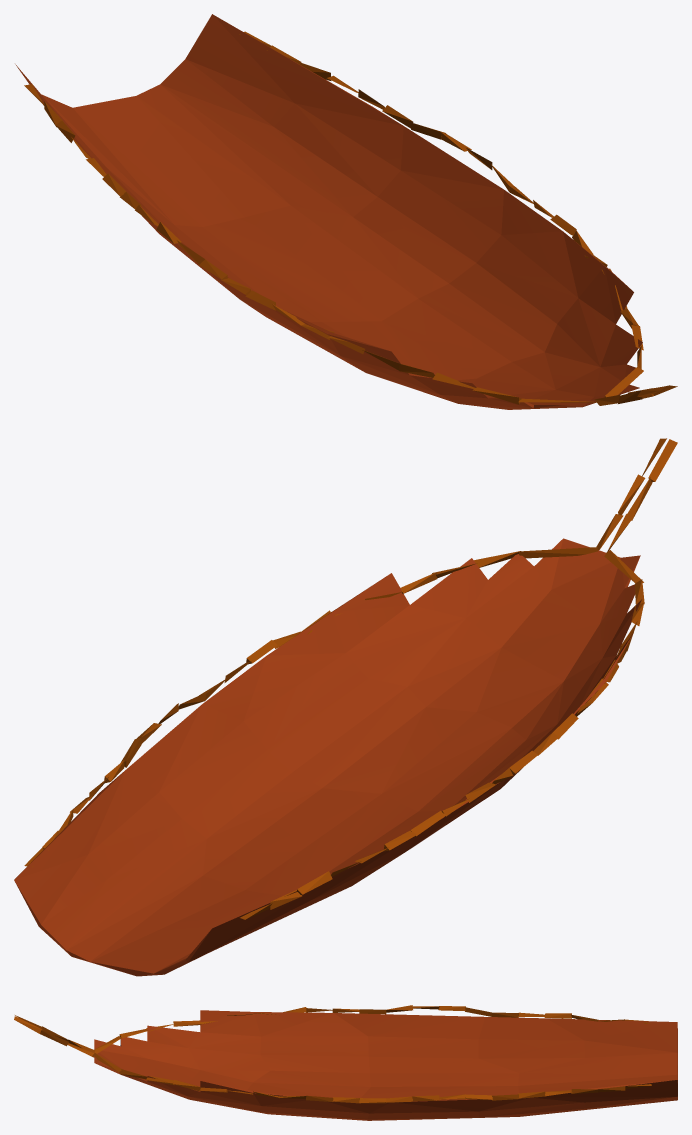
The model's file is upgrade_copper_banded_hull.three-web-toon.lod25.glb.
3 views of the same model, one above another, from view 1: azimuth 30°, elevation 25°; view 2: azimuth 150°, elevation 25°; view 3: azimuth 270°, elevation 25° (orthographic). The views are drawn at different scales.
Visible parts, largest first — view 1: upgrade_copper_banded_hull_mesh_lod; view 2: upgrade_copper_banded_hull_mesh_lod; view 3: upgrade_copper_banded_hull_mesh_lod.
Part boxes in pixels (x1,y1,x2,y2): upgrade_copper_banded_hull_mesh_lod: (15, 14, 677, 409); upgrade_copper_banded_hull_mesh_lod: (14, 438, 677, 976); upgrade_copper_banded_hull_mesh_lod: (14, 1005, 677, 1120).
Bounding box in the file's own units: 3.2 × 1.42 × 9.63.
